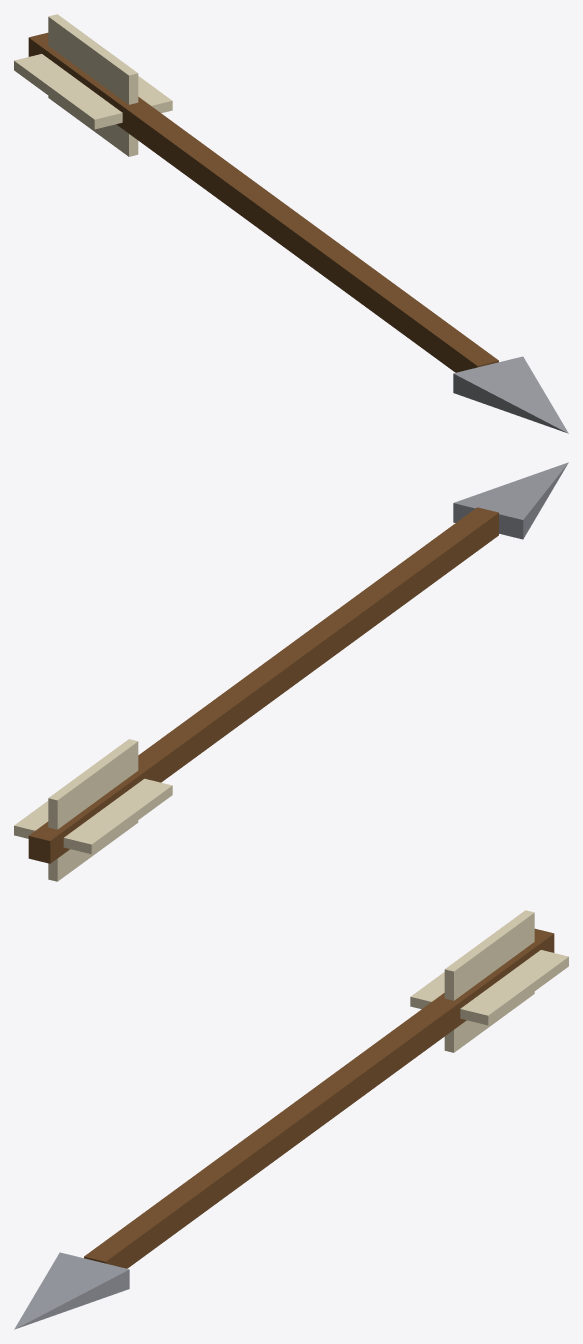
Rendered from Arrow.obj.
3 renders of one model, top to bottom at view 1: azimuth 30°, elevation 25°; view 2: azimuth 150°, elevation 25°; view 3: azimuth 330°, elevation 25°, orthographic.
Parts seen in each view (by area): view 1: Arrow; view 2: Arrow; view 3: Arrow.
Part boxes in pixels (bbox=[...]): Arrow: bbox=[14, 14, 568, 433]; Arrow: bbox=[14, 462, 568, 881]; Arrow: bbox=[14, 910, 568, 1329].
Size of the model in its own units: 0.05 by 0.05 by 0.59.
